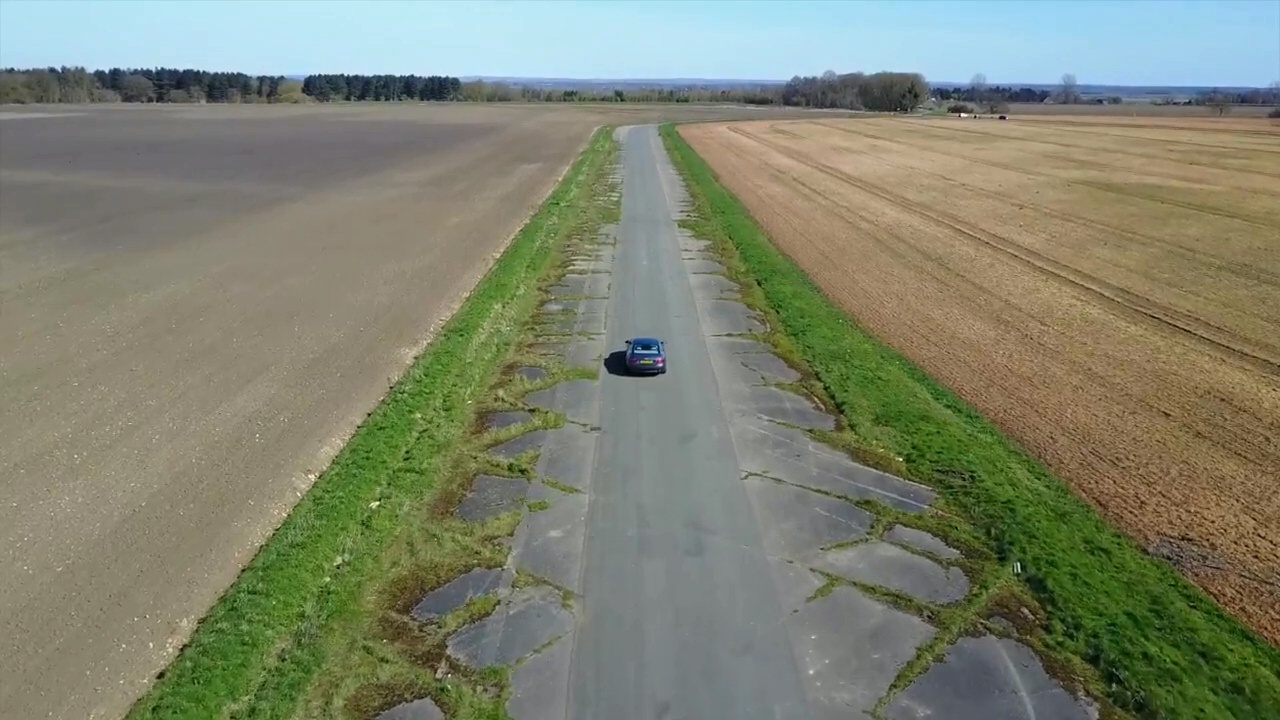araba: (622, 336, 669, 379)
